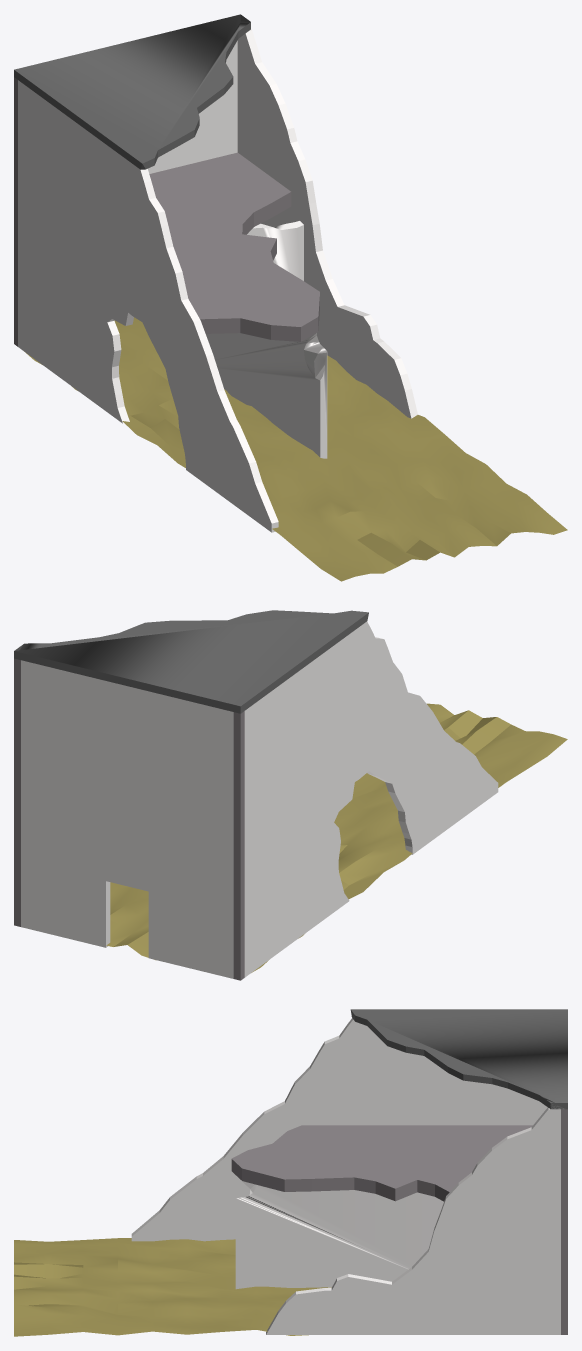
File: Ruin2.0.fbx
The picture shows the model from 3 angles, top to bottom: view 1: azimuth 30°, elevation 25°; view 2: azimuth 150°, elevation 25°; view 3: azimuth 270°, elevation 25°; orthographic projection. The views are drawn at different scales.
Visible parts, largest first — view 1: side 1, Plane.002, Plane.001, roof, side2, Cube.004, door wall, Cube.005, joints.001; view 2: door wall, side 1, roof, Plane.002, joints.001, joints; view 3: side2, side 1, Plane.002, Cube.004, Plane.001, roof, joints.
Part boxes in pixels (<box>): side 1: <box>18,80,278,532</box>; Plane.002: <box>24,317,567,581</box>; Plane.001: <box>149,152,319,341</box>; roof: <box>14,14,250,169</box>; side2: <box>237,29,417,418</box>; Cube.004: <box>206,332,327,458</box>; door wall: <box>148,40,237,173</box>; Cube.005: <box>247,221,303,280</box>; joints.001: <box>14,77,17,346</box>; door wall: <box>21,660,233,978</box>; side 1: <box>244,621,498,977</box>; roof: <box>14,610,368,713</box>; Plane.002: <box>106,703,567,972</box>; joints.001: <box>233,711,244,980</box>; joints: <box>14,658,20,926</box>; side2: <box>266,1107,560,1334</box>; side 1: <box>131,1018,547,1241</box>; Plane.002: <box>14,1238,331,1336</box>; Cube.004: <box>235,1180,443,1289</box>; Plane.001: <box>231,1125,532,1201</box>; roof: <box>350,1009,567,1109</box>; joints: <box>561,1109,567,1334</box>.
Bounding box in the file's own units: 800 × 940 × 2000.
